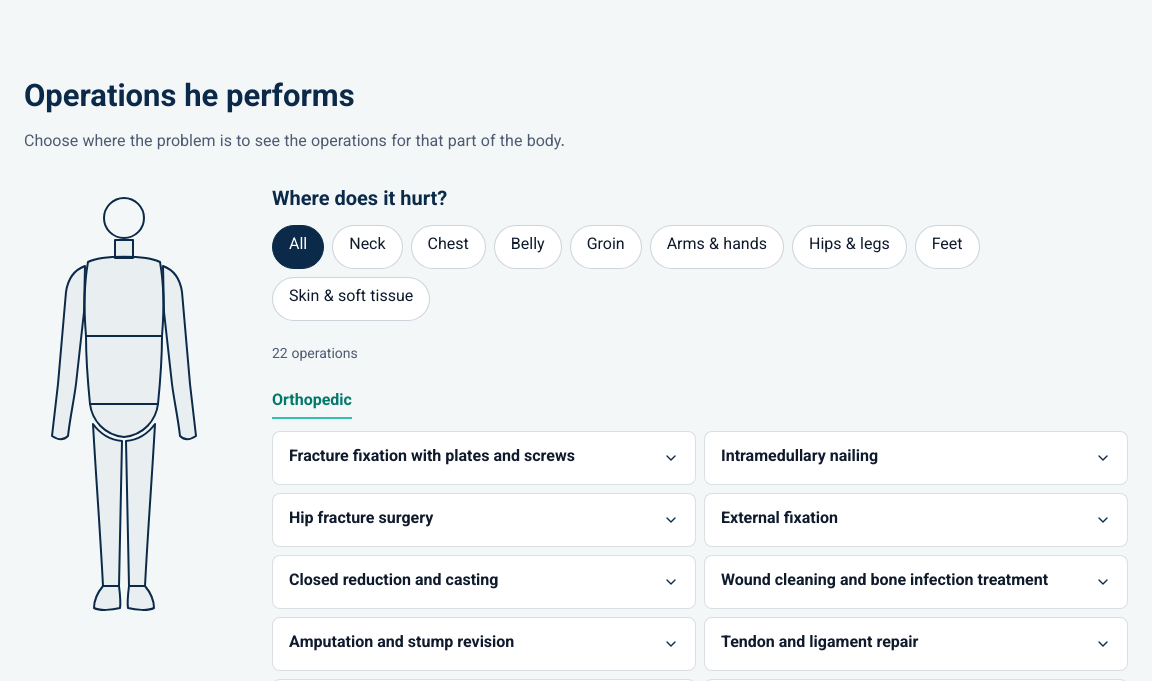
it: a group with no matching operations is hidden
Click the button "Neck" at {"x": 367, "y": 246}, box [332,224,403,268]
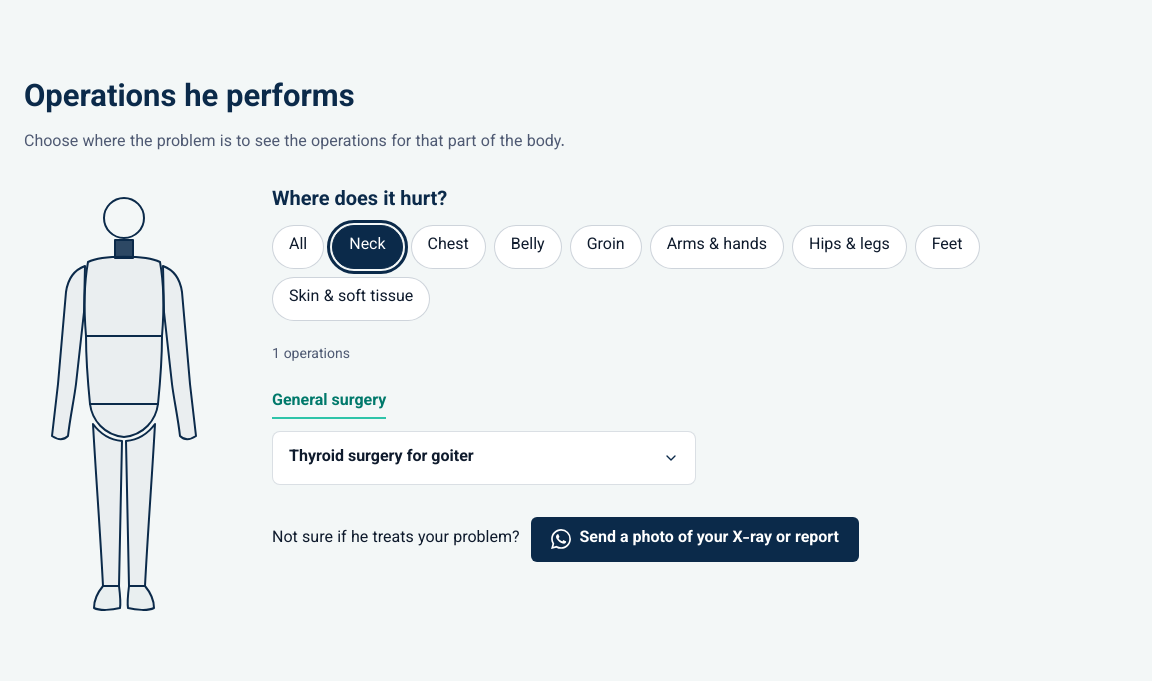
Check: the list named "General surgery" is shown, box [272,431,696,485]
Check: the heading "Orthopedic" is gone
